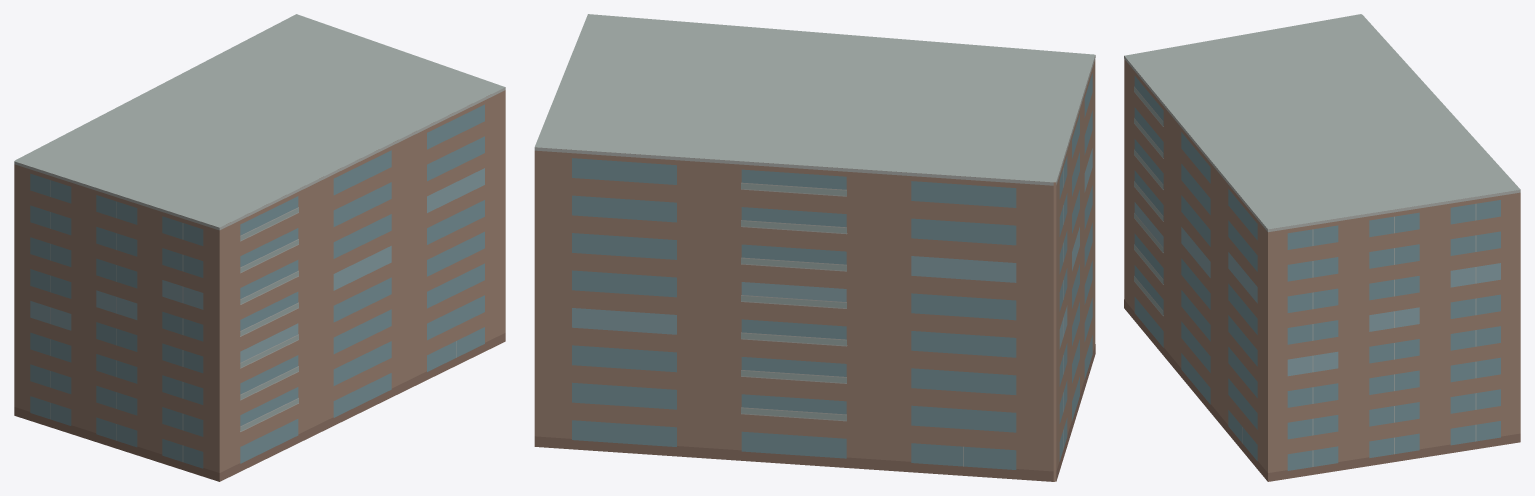
The model's file is survey-upis-33013029.glb.
The picture shows the model from 3 angles, left to right: view 1: azimuth 30°, elevation 25°; view 2: azimuth 150°, elevation 25°; view 3: azimuth 270°, elevation 25°; orthographic projection. The views are drawn at different scales.
Parts seen in each view (by area): view 1: survey-upis-33013029.tmp; view 2: survey-upis-33013029.tmp; view 3: survey-upis-33013029.tmp.
Part boxes in pixels (bbox=[...]): survey-upis-33013029.tmp: bbox=[14, 14, 505, 481]; survey-upis-33013029.tmp: bbox=[534, 14, 1095, 481]; survey-upis-33013029.tmp: bbox=[1124, 14, 1520, 481].
Bounding box in the file's own units: 39.89 × 21.8 × 31.04.
